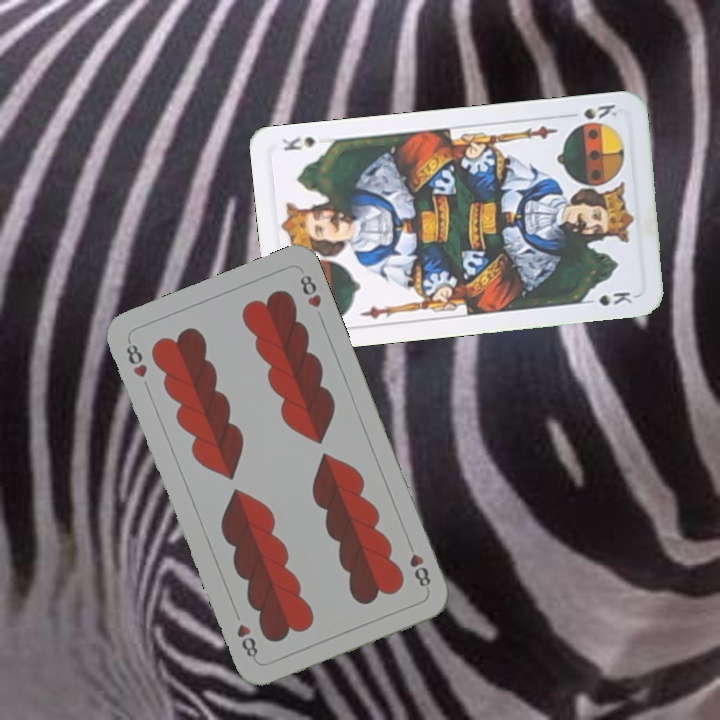H8: (403, 537, 434, 590), (122, 336, 150, 381)
SK: (579, 100, 620, 122)
